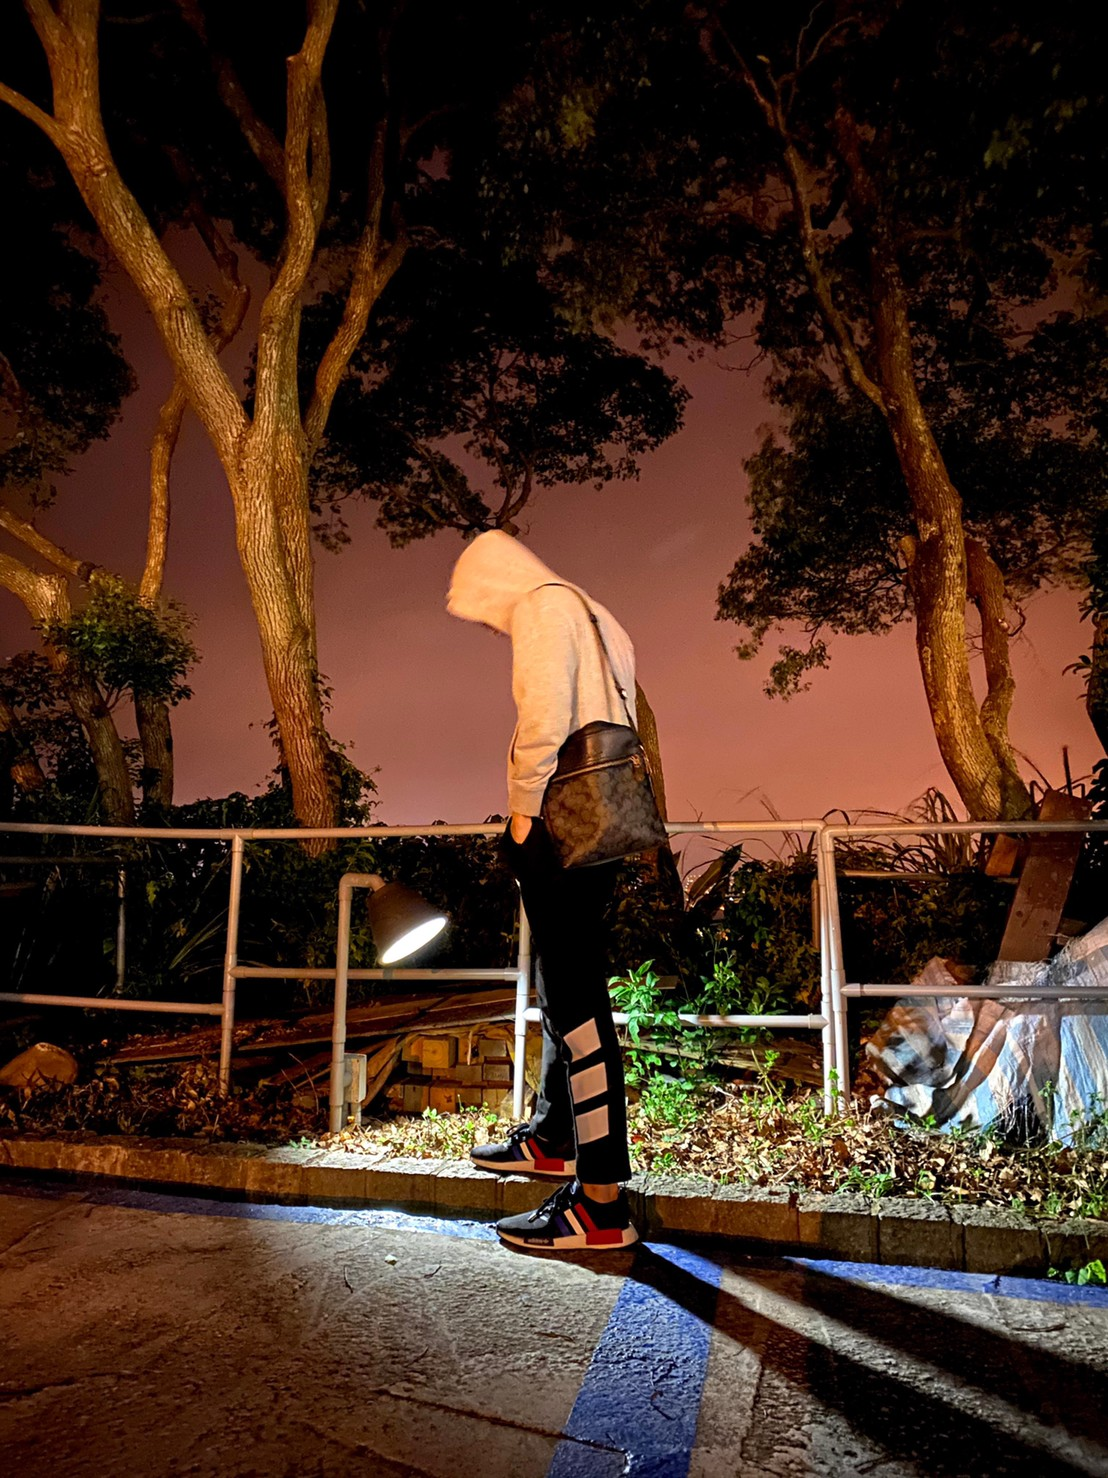people: (455, 528, 662, 1262)
